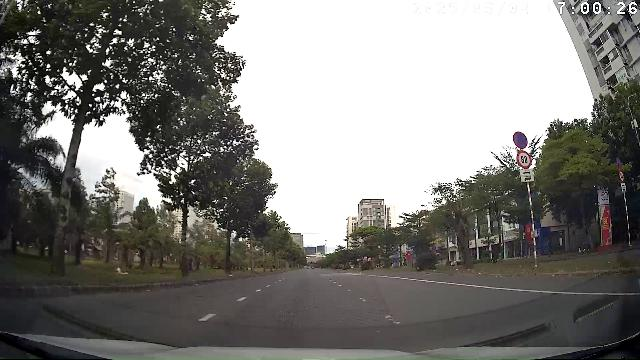127-toc-do-toi-da-80: (516, 150, 532, 169)
130-cam-dung-va-do-xe: (513, 131, 528, 149)
